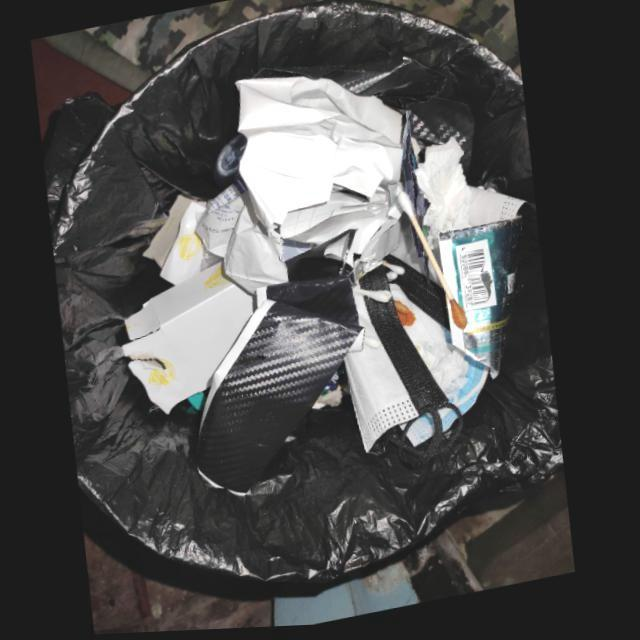cardboard: (126, 264, 259, 417), (147, 198, 227, 288)
paper: (240, 81, 404, 219), (418, 140, 530, 236), (274, 188, 404, 270), (200, 190, 294, 293)
plastic_container: (457, 227, 503, 368)
